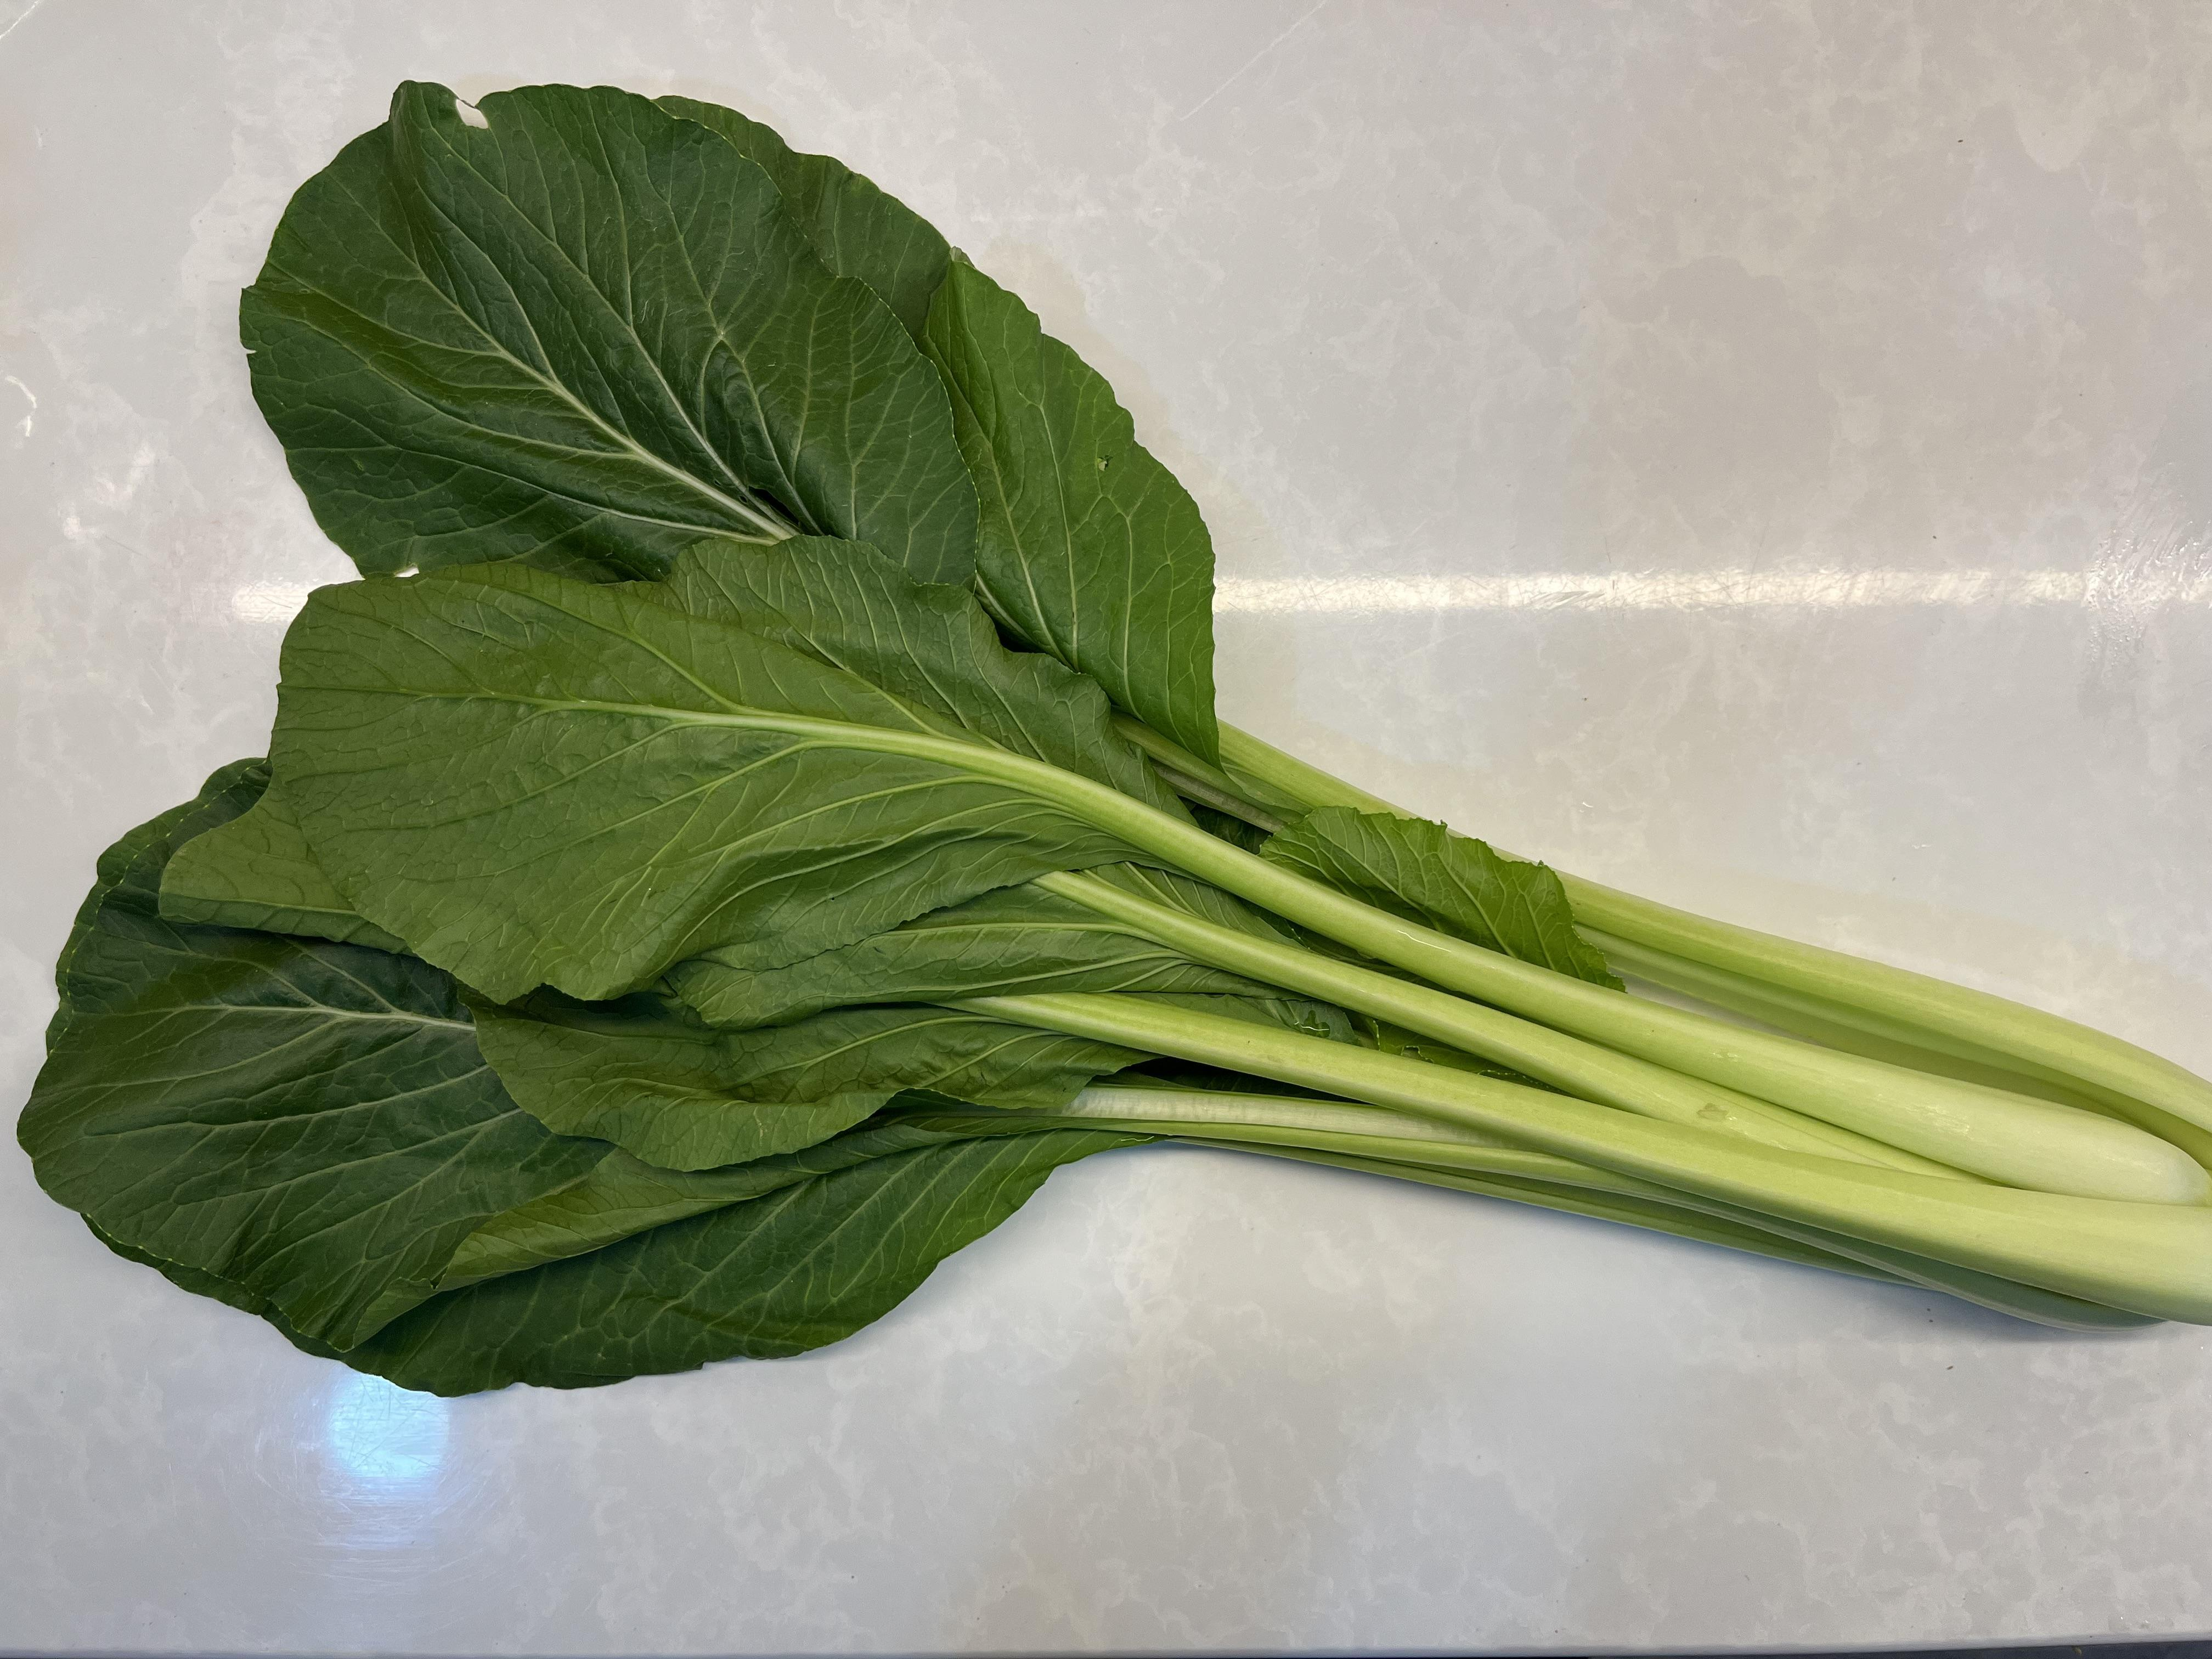Healthy-Pechay: (132, 125, 2210, 1344)
